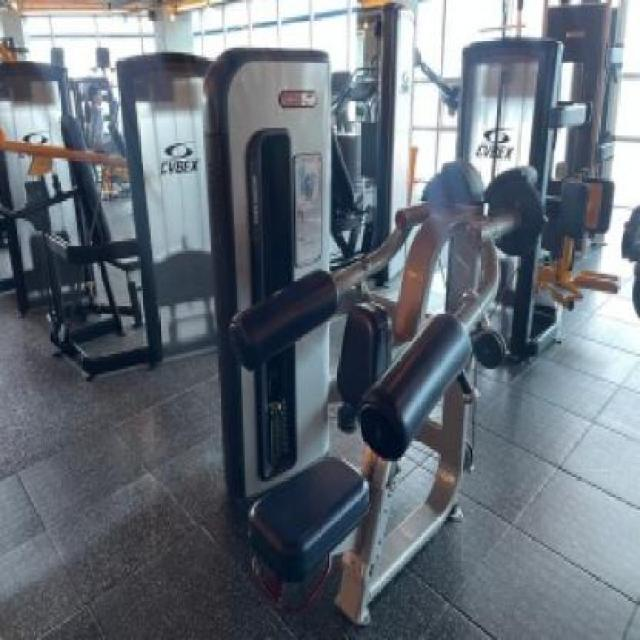lateral raises machine: (202, 135, 500, 640)
